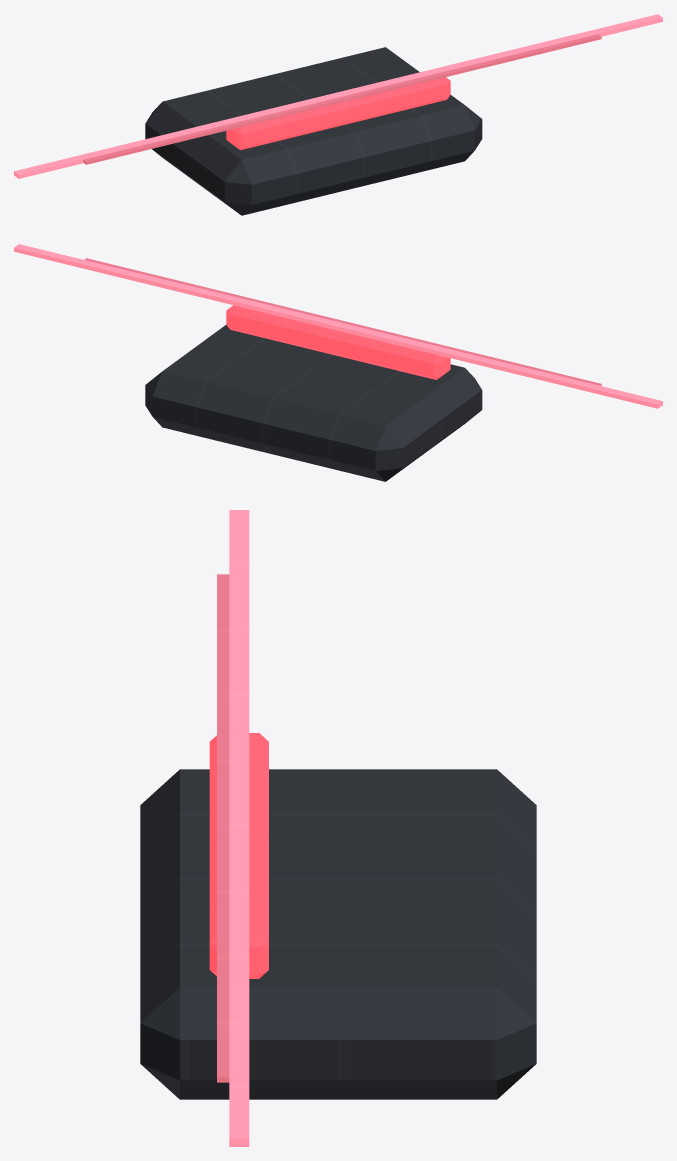
The model's file is gear_holoprojector.glb.
The picture shows the model from 3 angles, top to bottom: view 1: azimuth 30°, elevation 25°; view 2: azimuth 150°, elevation 25°; view 3: azimuth 270°, elevation 25°; orthographic projection. The views are drawn at different scales.
Parts seen in each view (by area): view 1: Holo_Base, Holo_Emitter, Holo_Screen, Holo_Map; view 2: Holo_Base, Holo_Screen, Holo_Emitter, Holo_Map; view 3: Holo_Base, Holo_Screen, Holo_Emitter, Holo_Map.
Part boxes in pixels (x1=…): Holo_Base: x1=145, y1=47, x2=482, y2=215; Holo_Emitter: x1=226, y1=77, x2=450, y2=150; Holo_Screen: x1=14, y1=14, x2=662, y2=178; Holo_Map: x1=83, y1=34, x2=601, y2=164; Holo_Base: x1=145, y1=324, x2=482, y2=481; Holo_Screen: x1=14, y1=244, x2=662, y2=408; Holo_Emitter: x1=226, y1=305, x2=450, y2=379; Holo_Map: x1=84, y1=258, x2=601, y2=385; Holo_Base: x1=140, y1=769, x2=536, y2=1099; Holo_Screen: x1=229, y1=510, x2=249, y2=1146; Holo_Emitter: x1=209, y1=733, x2=268, y2=978; Holo_Map: x1=217, y1=574, x2=229, y2=1082.
Size of the model in its own units: 0.3 by 0.037 by 0.08.
Materials: 4 (4 with a texture image).
